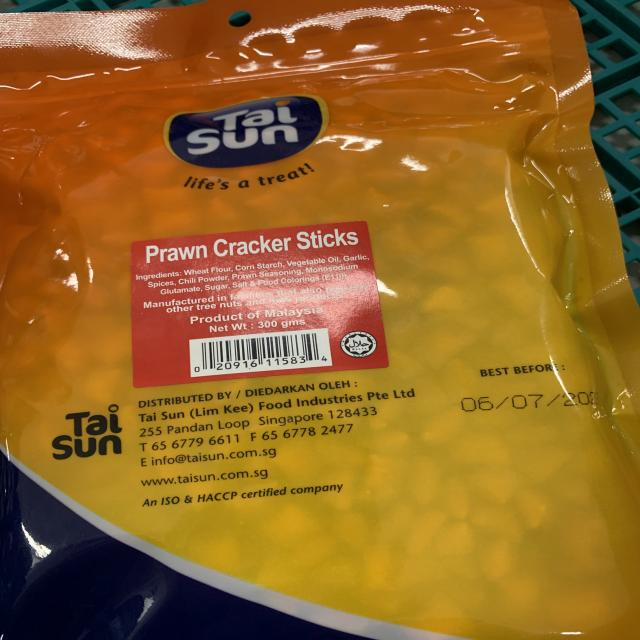object_name: (5, 16, 627, 639)
